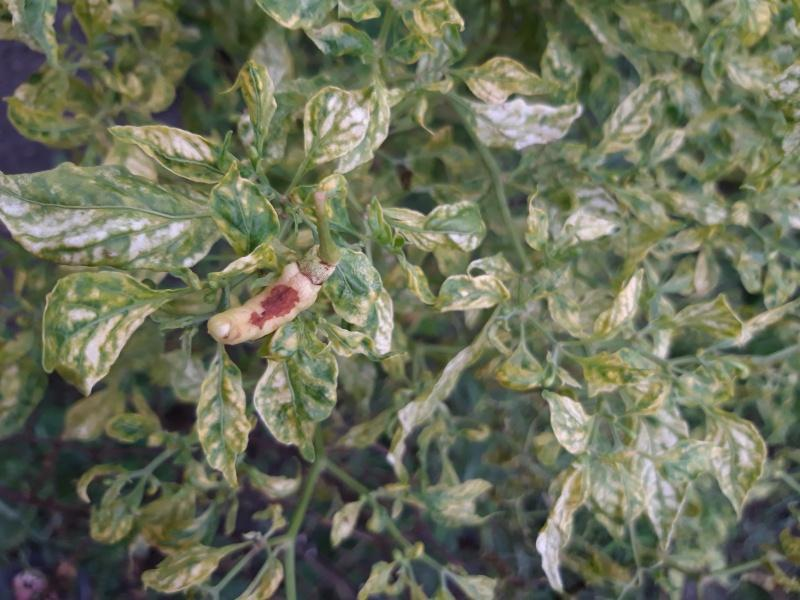antraknosa: (206, 260, 328, 344)
